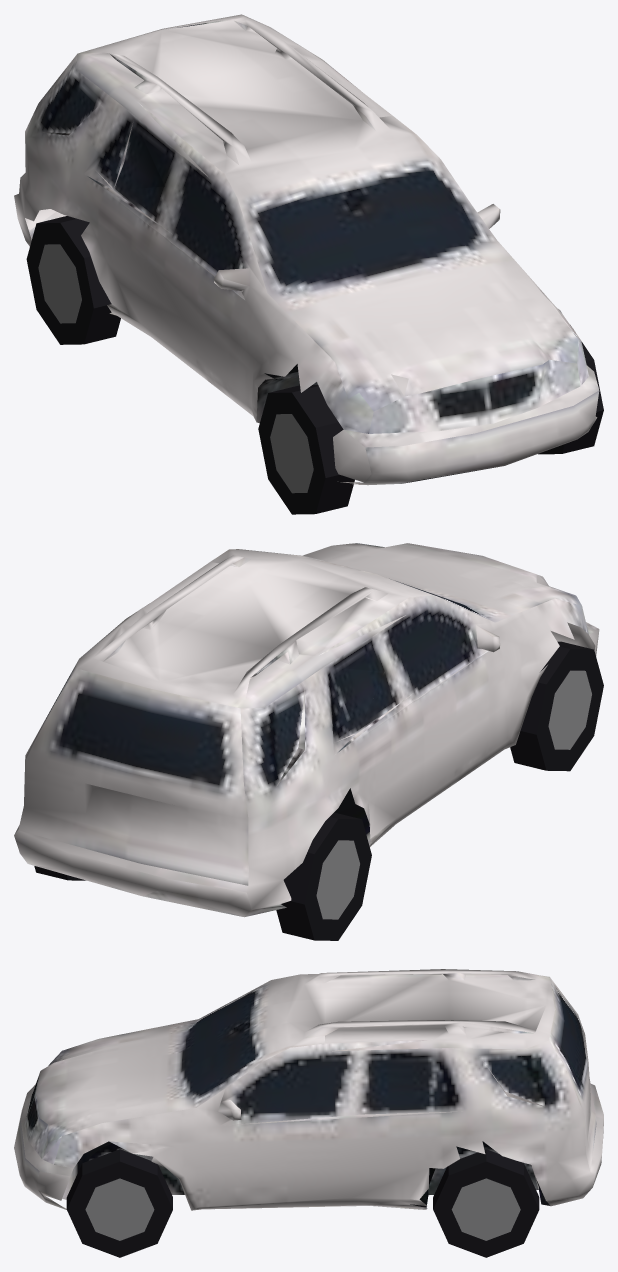
The model's file is suv-white-far.glb.
3 renders of one model, top to bottom at view 1: azimuth 30°, elevation 25°; view 2: azimuth 150°, elevation 25°; view 3: azimuth 270°, elevation 25°, orthographic. The views are drawn at different scales.
Parts seen in each view (by area): view 1: suv-far; view 2: suv-far; view 3: suv-far.
Boxes of the visible parts, x1=… form: suv-far: x1=14, y1=14, x2=603, y2=514; suv-far: x1=14, y1=543, x2=603, y2=940; suv-far: x1=14, y1=969, x2=603, y2=1257.
Bounding box in the file's own units: 2.08 × 1.83 × 4.69.
1 material, 1 textured.
